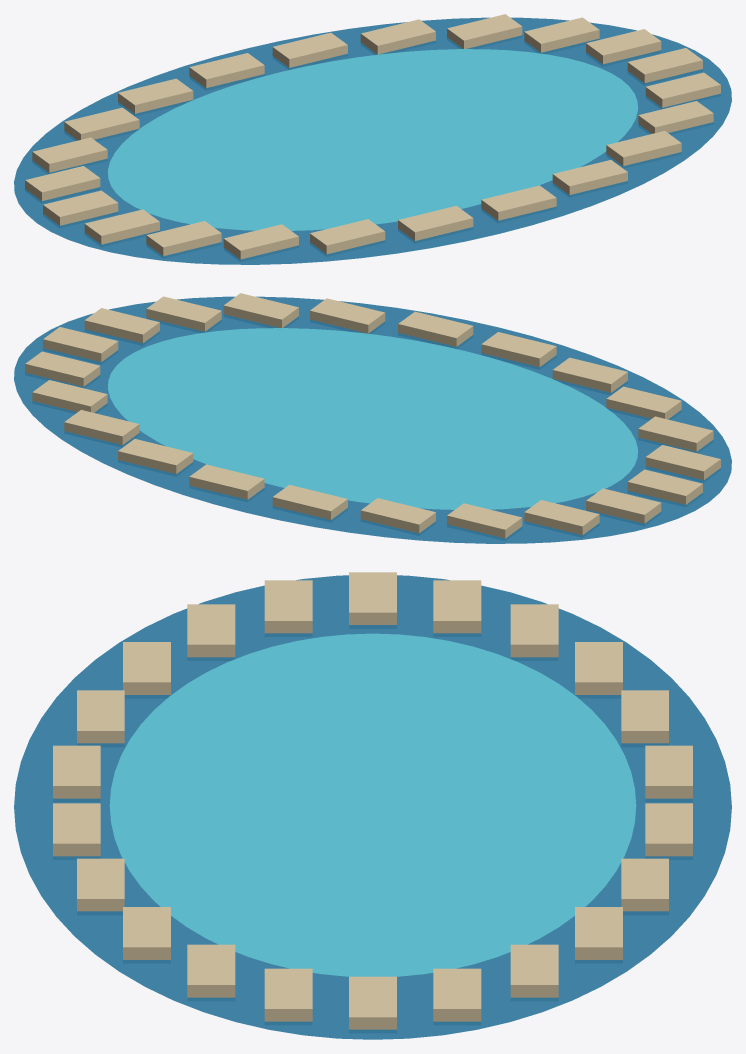
File: sample.glb
3 renders of one model, top to bottom at view 1: azimuth 30°, elevation 25°; view 2: azimuth 150°, elevation 25°; view 3: azimuth 270°, elevation 25°, orthographic. The views are drawn at different scales.
Bounding box in the file's own units: 92 × 1.5 × 60.
